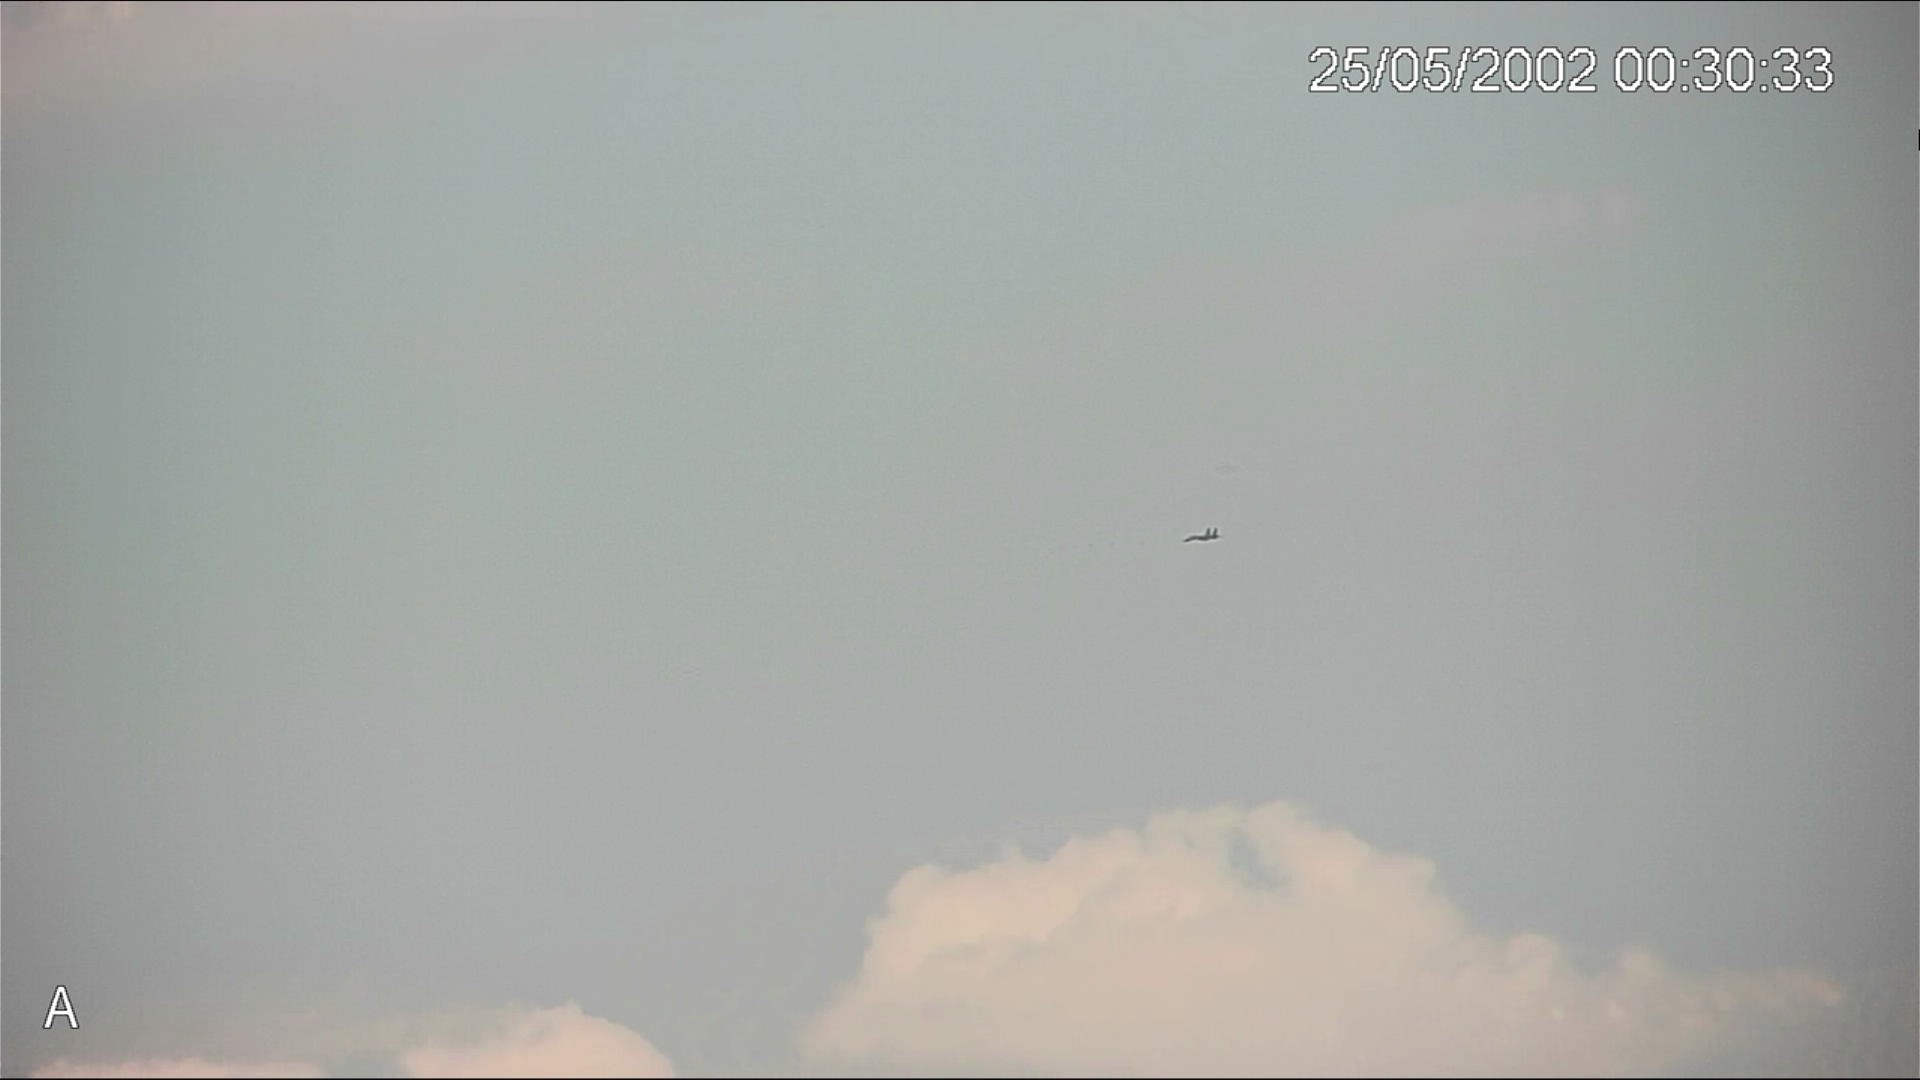SU_30: (1183, 524, 1222, 547)
